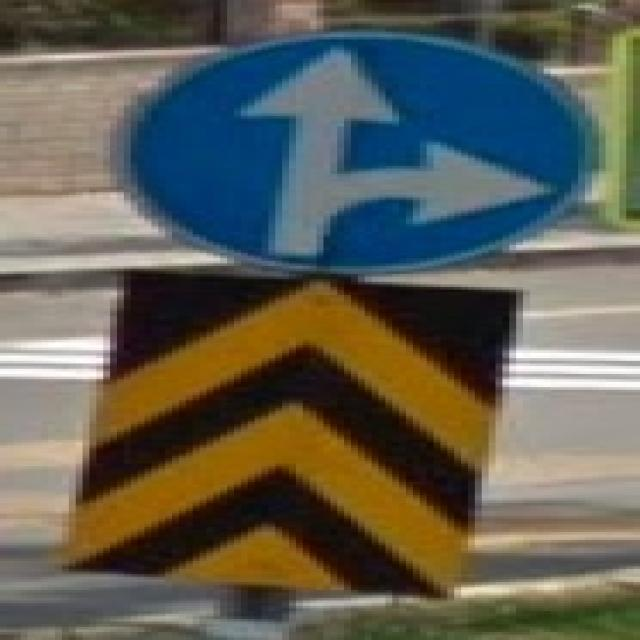Straight or Right: (122, 35, 597, 270)
